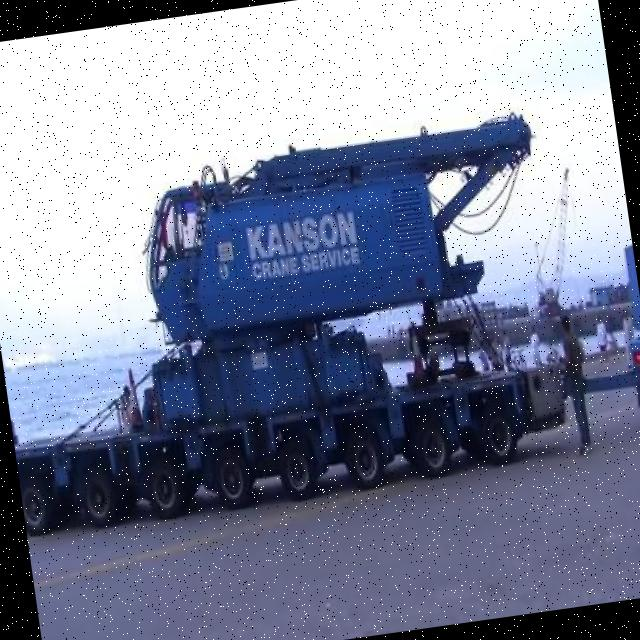Mobile Crane: (0, 118, 573, 529)
